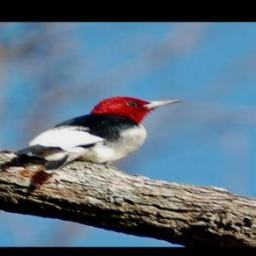Woodpecker: (13, 95, 187, 175)
